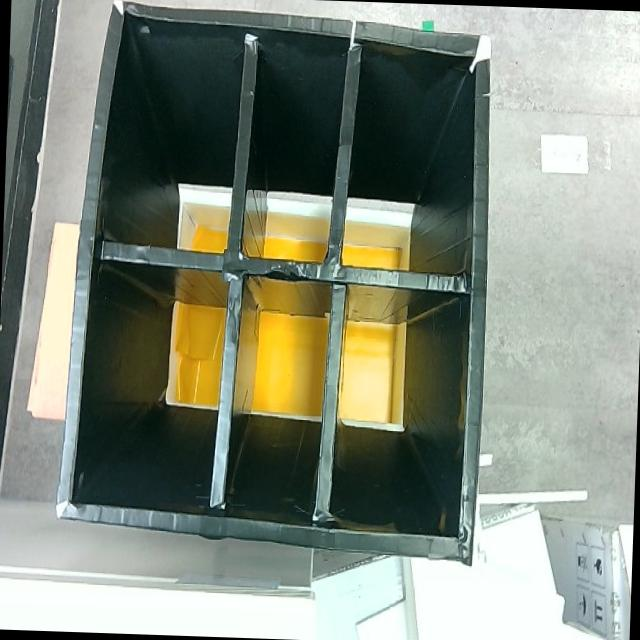box: (54, 0, 497, 564)
